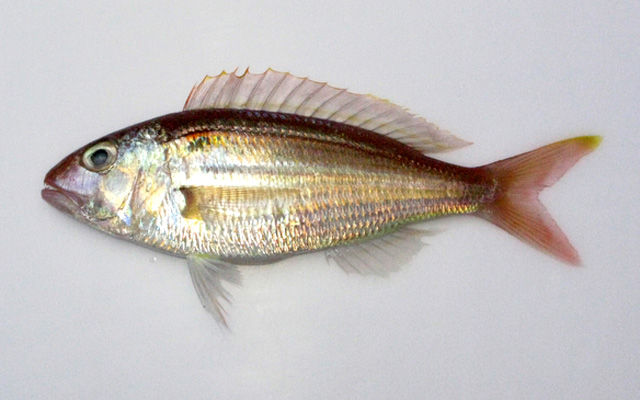fish: (41, 67, 604, 334)
